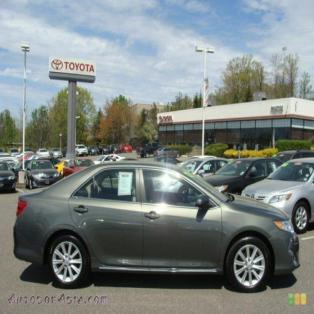Auto: (12, 160, 302, 293)
